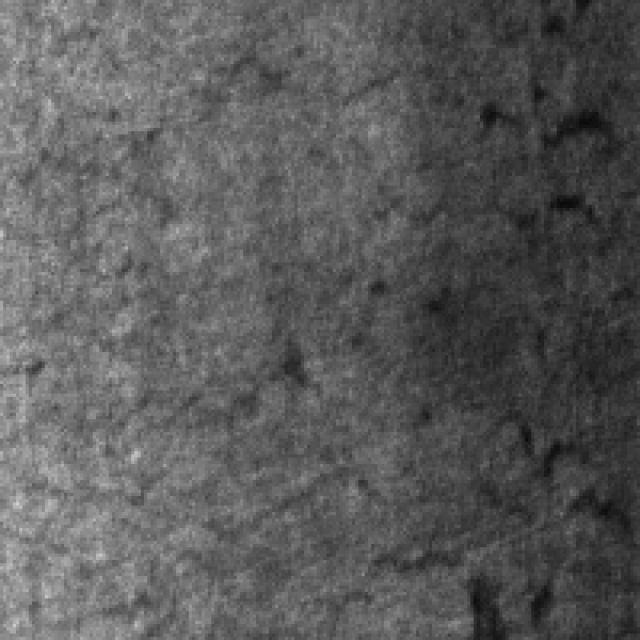crazing: (0, 48, 282, 250), (333, 54, 614, 237)
